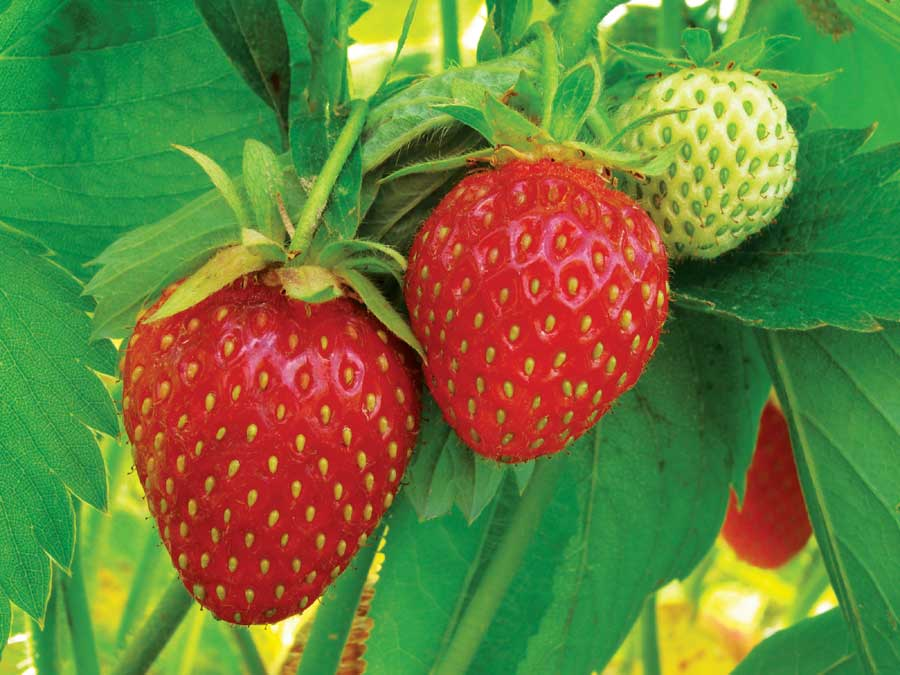strawberry: (114, 259, 414, 645), (409, 153, 669, 459)
